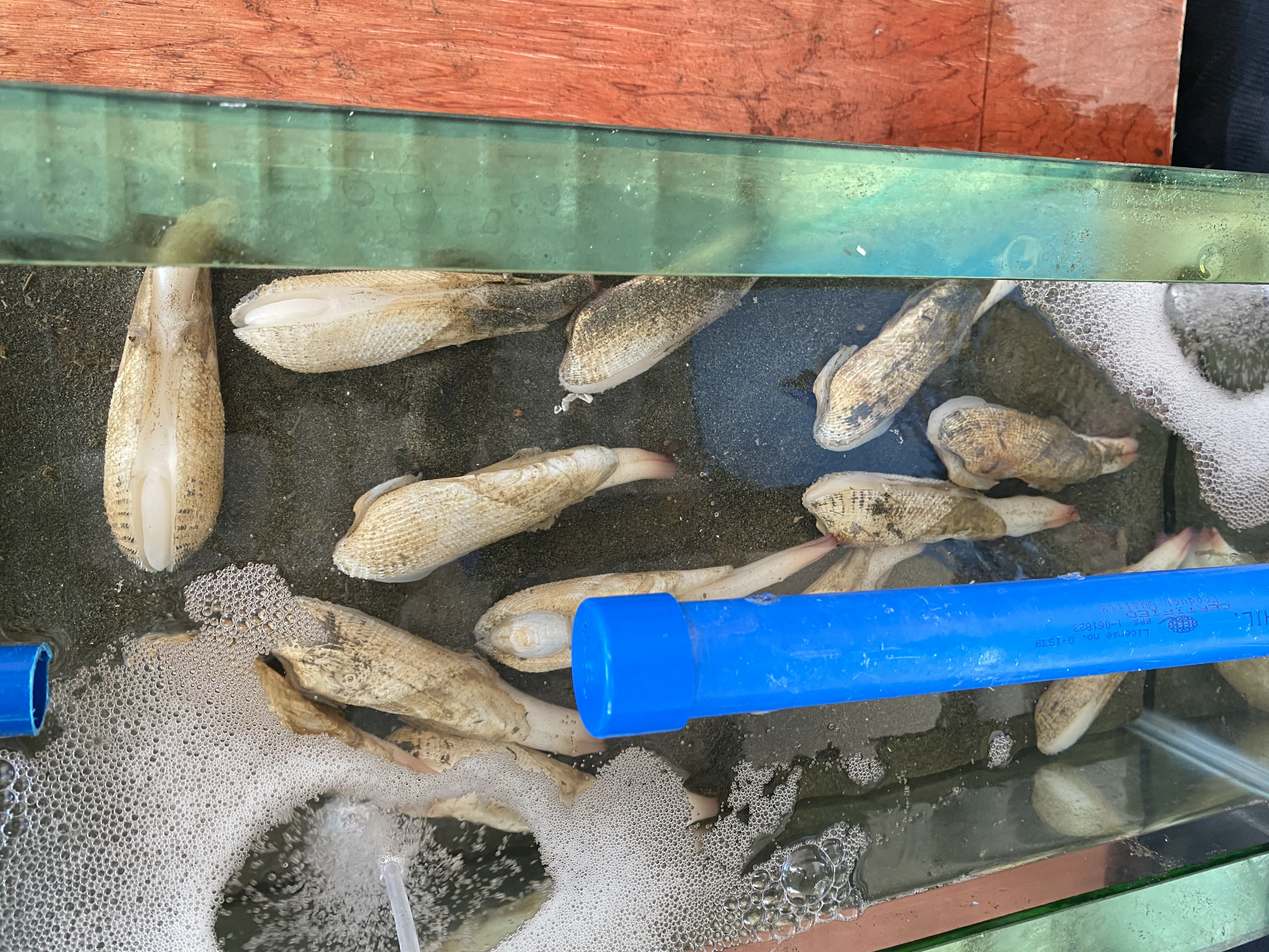Healthy: (477, 536, 837, 671), (333, 445, 675, 581), (813, 279, 1014, 450), (803, 472, 1079, 546), (927, 397, 1137, 490), (1034, 672, 1125, 754), (1102, 528, 1194, 573), (930, 509, 990, 567)
